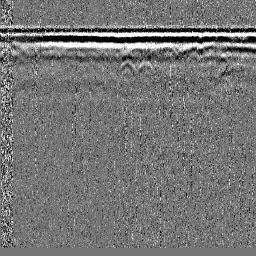cavity: (119, 58, 136, 73)
